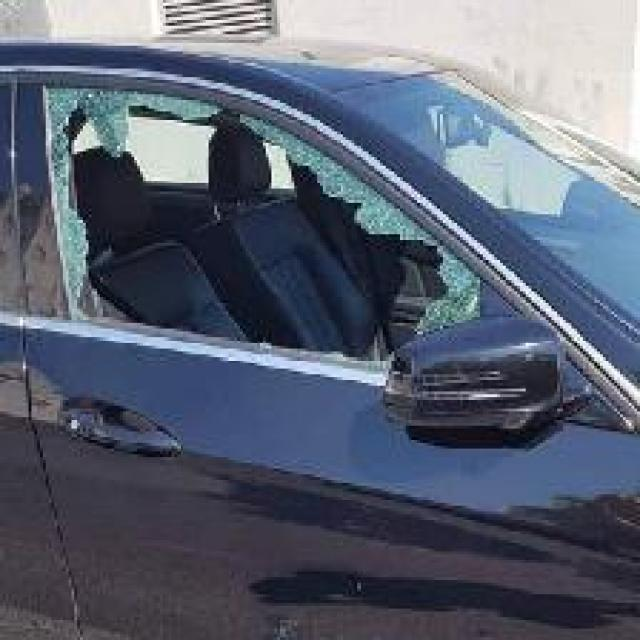damaged: (42, 86, 494, 408)
